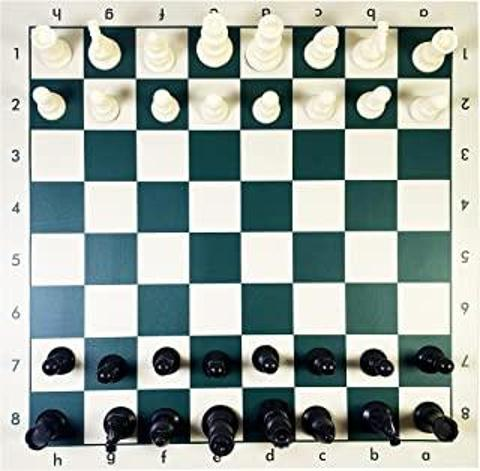xcorner: (339, 226, 357, 244), (287, 175, 305, 193), (129, 124, 147, 142), (129, 72, 147, 90), (76, 124, 94, 142), (76, 72, 94, 90), (392, 329, 409, 347), (391, 226, 409, 243), (391, 175, 409, 192), (391, 123, 408, 141), (340, 381, 357, 399), (339, 175, 357, 192), (339, 123, 356, 141), (288, 330, 305, 348), (287, 279, 305, 296), (287, 227, 305, 244), (235, 383, 253, 400), (235, 331, 253, 348), (235, 279, 253, 296), (235, 227, 252, 245), (235, 175, 252, 193), (234, 72, 252, 89), (183, 383, 200, 401), (183, 331, 200, 349), (182, 228, 200, 245), (182, 176, 200, 193), (130, 384, 147, 402), (129, 176, 147, 193), (77, 228, 94, 246), (77, 176, 94, 194), (392, 381, 409, 398), (392, 278, 409, 295), (391, 72, 408, 89), (340, 330, 357, 347), (340, 278, 357, 295), (339, 72, 356, 89), (288, 382, 305, 399), (287, 124, 304, 141), (287, 72, 304, 89), (235, 124, 252, 141), (183, 280, 200, 297), (182, 124, 199, 141), (182, 72, 199, 89), (130, 332, 147, 349), (130, 280, 147, 297), (130, 228, 147, 245), (77, 385, 94, 402), (77, 333, 94, 350), (77, 281, 94, 298)
